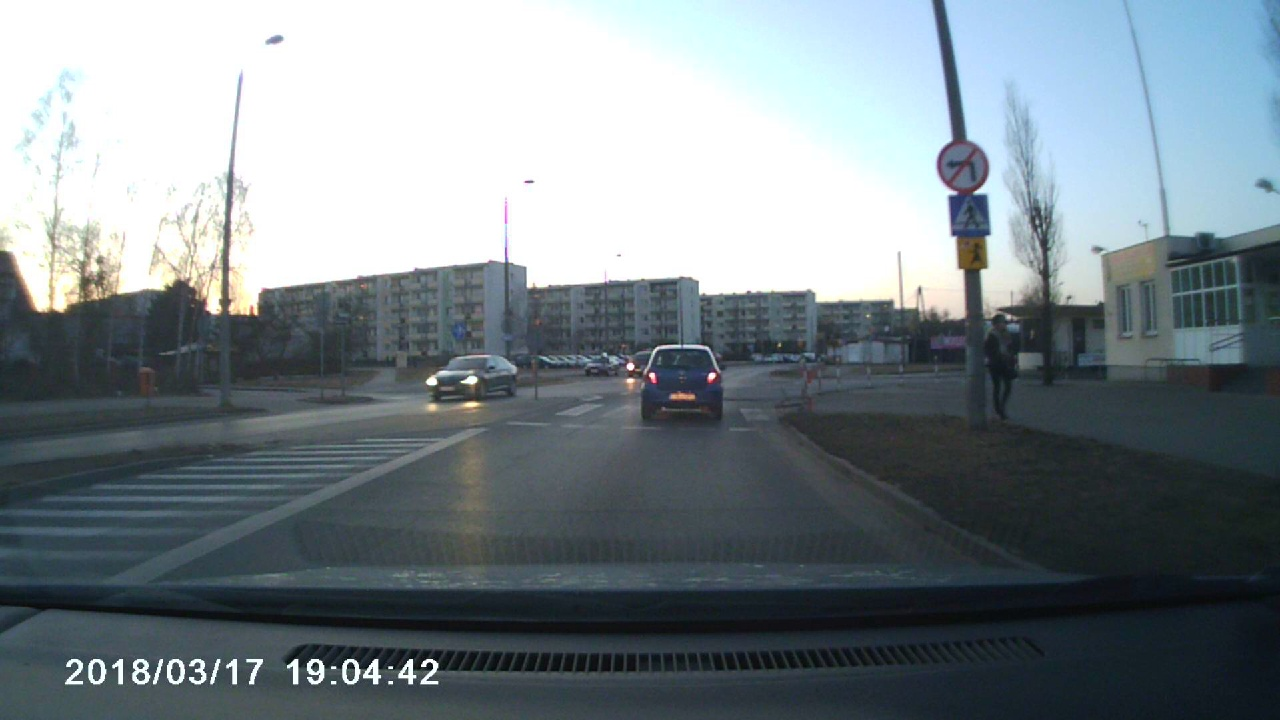B21: (934, 140, 988, 193)
D6: (949, 195, 991, 236)
